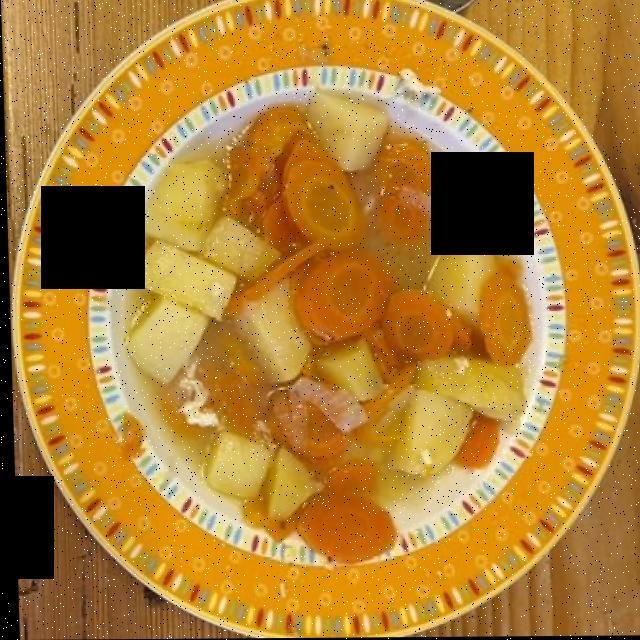bouillon: (391, 153, 508, 288)
carrot: (164, 110, 522, 551)
